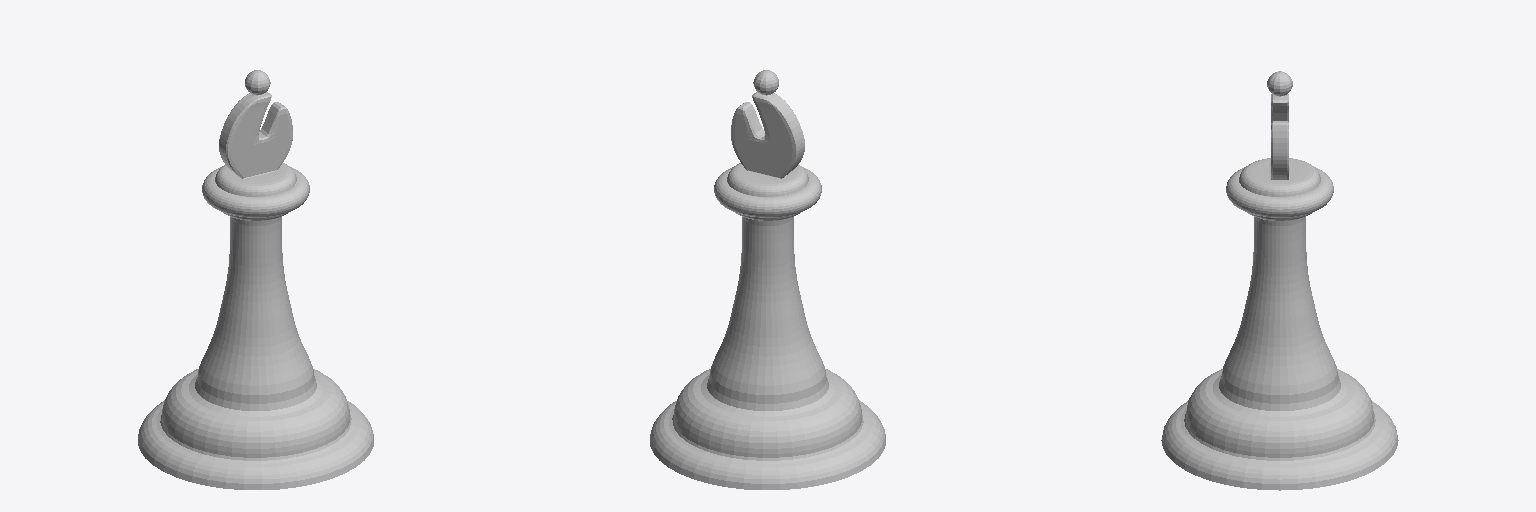
File: diagonal.obj
The picture shows the model from 3 angles: view 1: azimuth 30°, elevation 25°; view 2: azimuth 150°, elevation 25°; view 3: azimuth 270°, elevation 25°; orthographic projection.
Visible parts, largest first — view 1: black_bishop2_Mesh.029; view 2: black_bishop2_Mesh.029; view 3: black_bishop2_Mesh.029.
Boxes of the visible parts, x1=… form: black_bishop2_Mesh.029: x1=138, y1=70, x2=373, y2=489; black_bishop2_Mesh.029: x1=650, y1=70, x2=885, y2=489; black_bishop2_Mesh.029: x1=1161, y1=71, x2=1398, y2=490.
Bounding box in the file's own units: 0.1692 × 0.2906 × 0.1692.